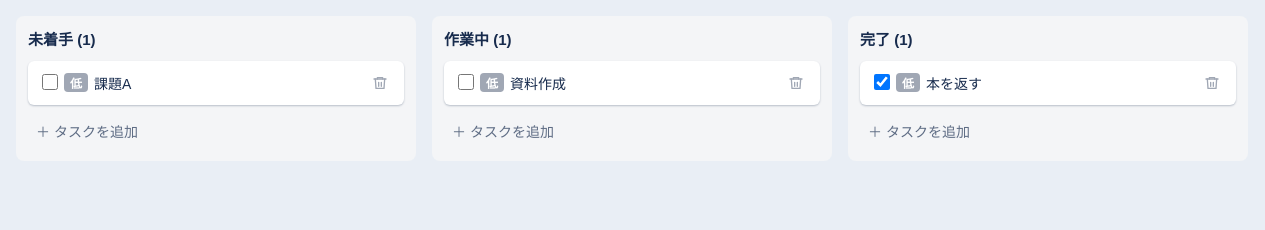
Test: 未着手 → 作業中 → 完了 と一番下へ移り、完了のチェックを外すと作業中へ戻る
expect the text "課題A" is shown: met, box [94,73,131,93]
Click the checkbox named "課題A の完了" at [50, 82], box [42,74,58,90]
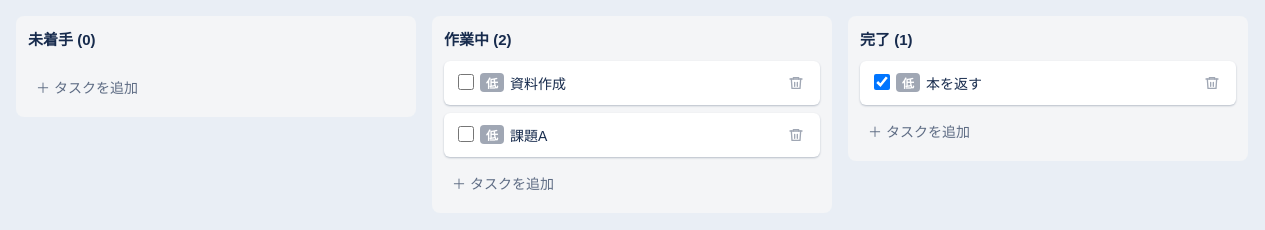
expect the heading "作業中 (2)" is shown: met, box [444,31,512,48]
Click the checkbox named "課題A の完了" at [466, 134], box [458,126,474,142]
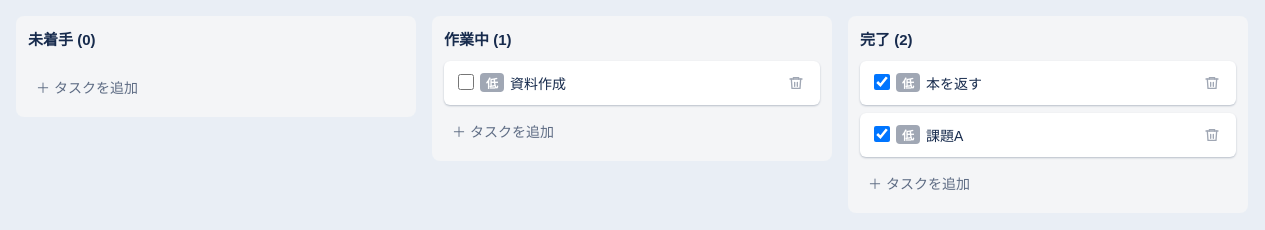
expect the checkbox named "課題A の完了" is checked: met
Click the checkbox named "課題A の完了" at [882, 134], box [874,126,890,142]
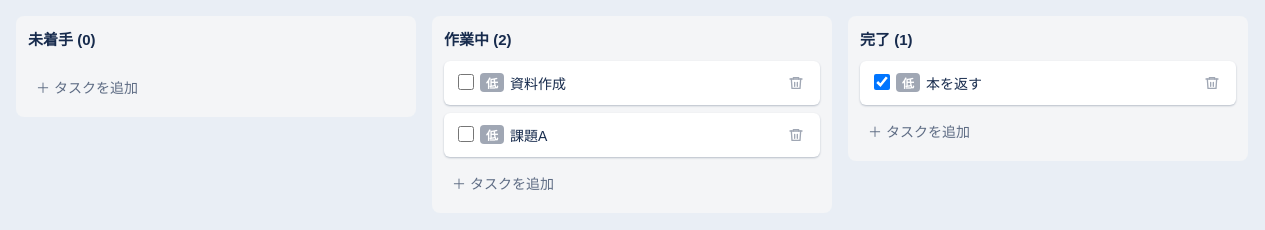
expect the checkbox named "課題A の完了" is not checked: met, box [458,126,474,142]
